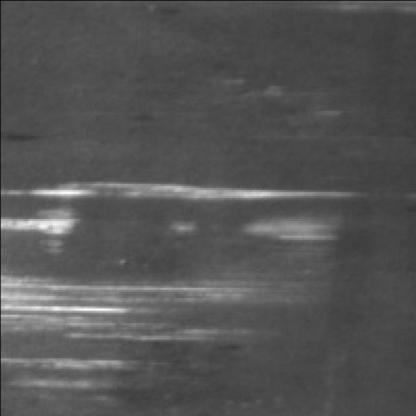scratches: (4, 178, 368, 247), (4, 277, 285, 333)
